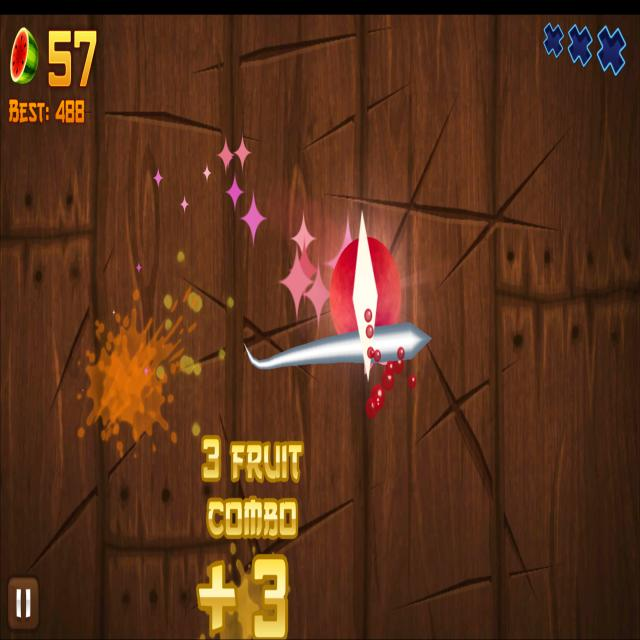fruit: (329, 235, 401, 337)
